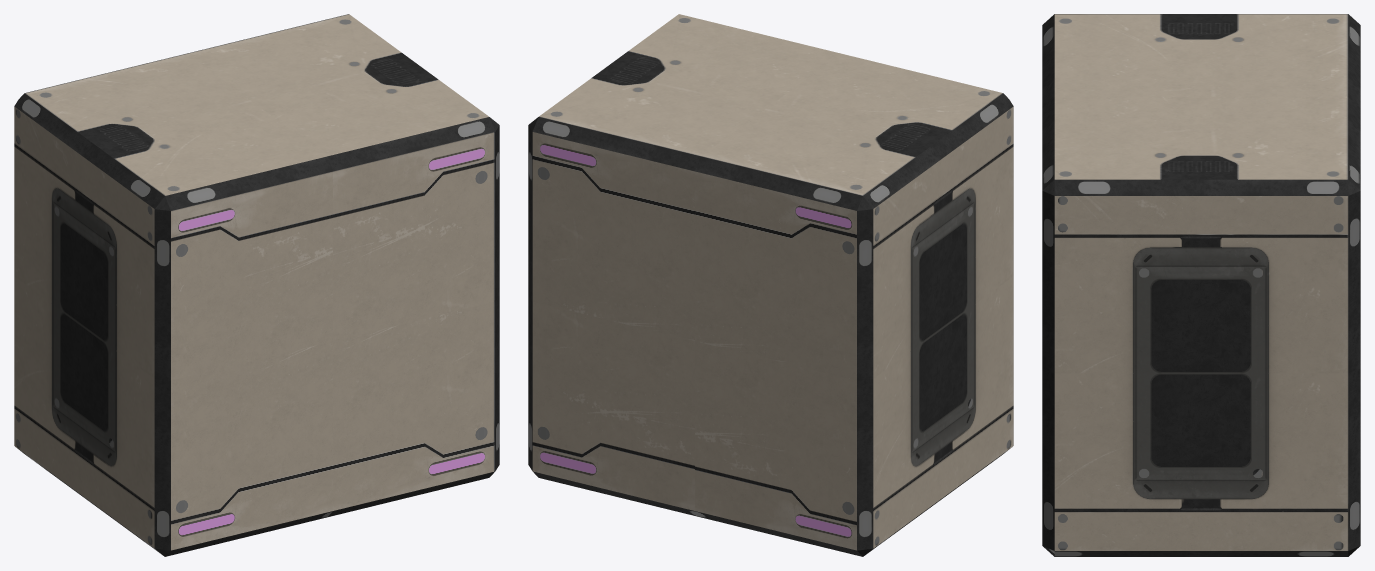
The model's file is CratePanelLarge.fbx.
The picture shows the model from 3 angles, left to right: view 1: azimuth 30°, elevation 25°; view 2: azimuth 150°, elevation 25°; view 3: azimuth 270°, elevation 25°; orthographic projection. The views are drawn at different scales.
Parts seen in each view (by area): view 1: CratePanelLarge; view 2: CratePanelLarge; view 3: CratePanelLarge.
Part boxes in pixels (x1,y1,x2,y2): CratePanelLarge: [14, 14, 499, 556]; CratePanelLarge: [528, 14, 1013, 556]; CratePanelLarge: [1042, 14, 1360, 556].
Bounding box in the file's own units: 60.23 × 60.23 × 46.06.
